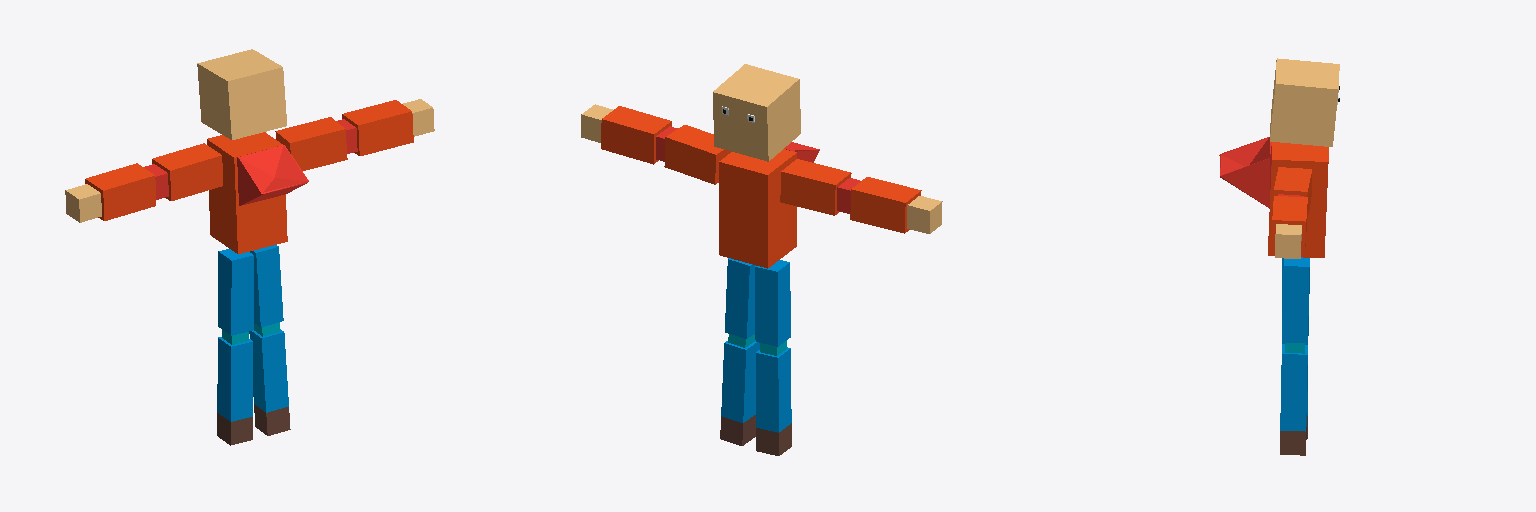
3 renders of one model, left to right at view 1: azimuth 30°, elevation 25°; view 2: azimuth 150°, elevation 25°; view 3: azimuth 270°, elevation 25°, orthographic.
Visible parts, largest first — view 1: group[number redacted], group[number redacted], group[number redacted], group[number redacted], group[number redacted], group[number redacted], group[number redacted], group[number redacted], group[number redacted], group[number redacted], group[number redacted], group[number redacted] (+3 smaller); view 2: group[number redacted], group[number redacted], group[number redacted], group[number redacted], group[number redacted], group[number redacted], group[number redacted], group[number redacted], group[number redacted], group[number redacted], group[number redacted], group[number redacted] (+2 smaller); view 3: group[number redacted], group[number redacted], group[number redacted], group[number redacted], group[number redacted], group[number redacted], group[number redacted], group[number redacted], group[number redacted].
Boxes of the visible parts, box(x1,y1,x2,y2) form: group[number redacted]: box(197, 49, 286, 139); group[number redacted]: box(207, 132, 287, 253); group[number redacted]: box(237, 145, 308, 205); group[number redacted]: box(218, 249, 253, 335); group[number redacted]: box(217, 337, 252, 421); group[number redacted]: box(342, 100, 413, 155); group[number redacted]: box(152, 143, 222, 200); group[number redacted]: box(85, 163, 155, 220); group[number redacted]: box(275, 117, 347, 170); group[number redacted]: box(249, 329, 288, 412); group[number redacted]: box(250, 245, 283, 326); group[number redacted]: box(65, 184, 101, 222); group[number redacted]: box(719, 149, 796, 268); group[number redacted]: box(713, 64, 800, 161); group[number redacted]: box(755, 260, 790, 346); group[number redacted]: box(780, 159, 851, 215); group[number redacted]: box(850, 177, 921, 233); group[number redacted]: box(756, 347, 791, 432); group[number redacted]: box(601, 106, 671, 164); group[number redacted]: box(721, 341, 759, 422); group[number redacted]: box(664, 125, 730, 184); group[number redacted]: box(725, 258, 755, 338); group[number redacted]: box(907, 196, 942, 233); group[number redacted]: box(756, 423, 791, 455); group[number redacted]: box(1270, 58, 1339, 146); group[number redacted]: box(1268, 142, 1328, 257); group[number redacted]: box(1219, 137, 1271, 208); group[number redacted]: box(1282, 257, 1309, 343); group[number redacted]: box(1280, 344, 1307, 431); group[number redacted]: box(1271, 196, 1307, 252); group[number redacted]: box(1273, 167, 1311, 218); group[number redacted]: box(1275, 224, 1301, 258); group[number redacted]: box(1280, 427, 1306, 455).
Size of the model in its own units: 2.51 by 2.5 by 0.7447.